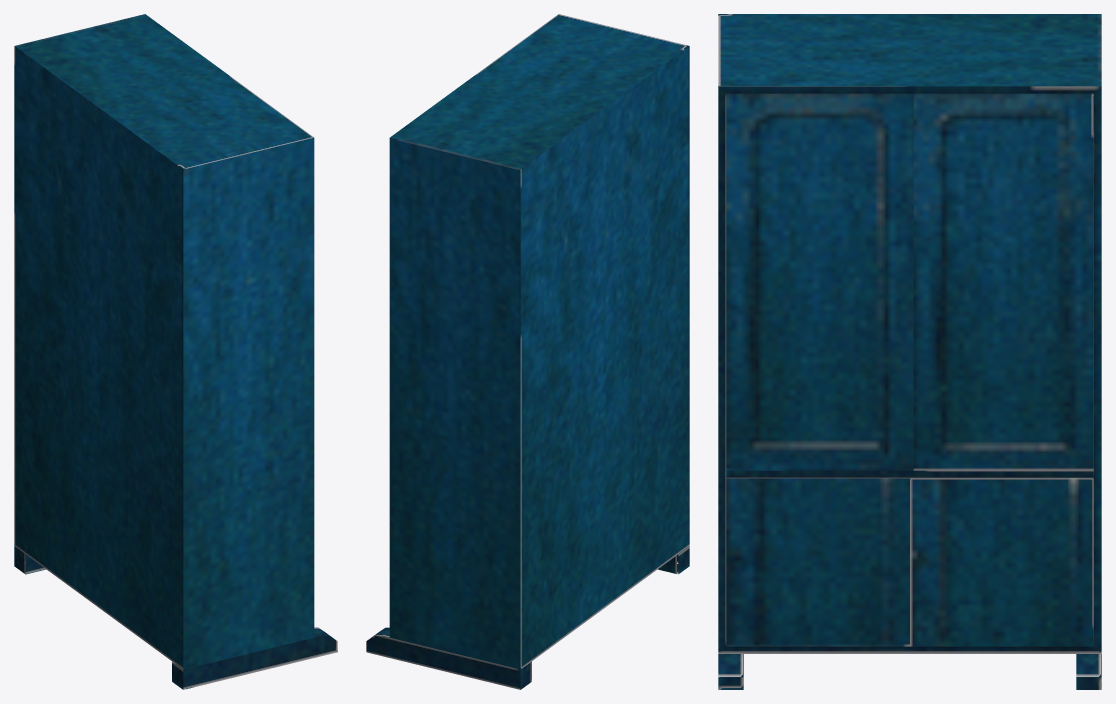
File: Blue Wooden Wardrobe-3.fbx
3 renders of one model, left to right at view 1: azimuth 30°, elevation 25°; view 2: azimuth 150°, elevation 25°; view 3: azimuth 270°, elevation 25°, orthographic. The views are drawn at different scales.
Visible parts, largest first — view 1: Blue Wooden Wardrobe-3; view 2: Blue Wooden Wardrobe-3; view 3: Wooden Wardrobe Upper Door-1.001, Wooden Wardrobe Upper Door-2.001, Blue Wooden Wardrobe-3, Wooden Wardrobe Bottom Door-1.001, Wooden Wardrobe Bottom Door-2.001.
Part boxes in pixels (bbox=[...]): Blue Wooden Wardrobe-3: bbox=[14, 14, 337, 689]; Blue Wooden Wardrobe-3: bbox=[366, 14, 689, 689]; Wooden Wardrobe Upper Door-1.001: bbox=[726, 93, 913, 470]; Wooden Wardrobe Upper Door-2.001: bbox=[913, 93, 1093, 470]; Blue Wooden Wardrobe-3: bbox=[718, 14, 1101, 689]; Wooden Wardrobe Bottom Door-1.001: bbox=[726, 478, 909, 646]; Wooden Wardrobe Bottom Door-2.001: bbox=[910, 478, 1093, 646].
Size of the model in its own units: 137 by 441 by 260.
